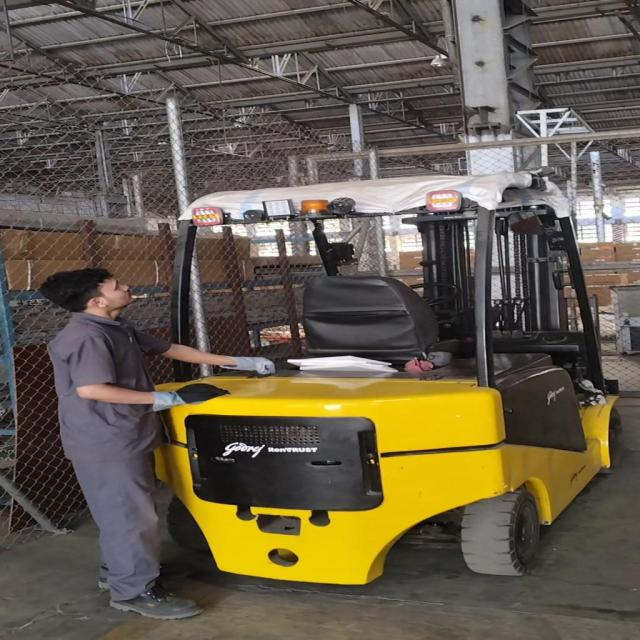Gloves-Detection: (154, 384, 224, 410), (220, 350, 288, 376)
